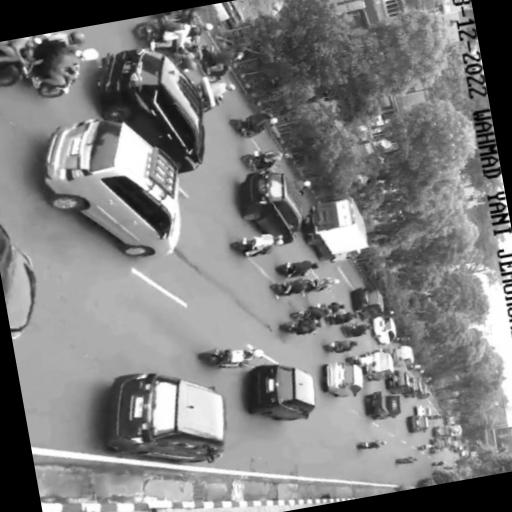car: (44, 120, 179, 257), (97, 49, 204, 172), (107, 373, 225, 464), (240, 171, 302, 244), (0, 226, 35, 339), (248, 365, 315, 421), (323, 363, 363, 397), (350, 288, 383, 320), (361, 350, 393, 382), (365, 392, 400, 420), (370, 316, 396, 345), (386, 370, 410, 394), (391, 345, 413, 368), (403, 378, 423, 398), (407, 415, 428, 433), (428, 439, 443, 454), (417, 383, 430, 399), (432, 426, 449, 438), (414, 406, 431, 416), (444, 416, 454, 425), (459, 451, 467, 457)
motorcycle: (44, 120, 179, 257), (97, 49, 204, 172), (107, 373, 225, 464), (240, 171, 302, 244), (0, 226, 35, 339), (248, 365, 315, 421), (37, 64, 79, 98), (323, 363, 363, 397), (0, 48, 33, 87), (195, 46, 230, 81), (350, 288, 383, 320), (361, 350, 393, 382), (131, 19, 165, 48), (365, 392, 400, 420), (195, 77, 221, 112), (198, 349, 244, 367), (370, 316, 396, 345), (153, 8, 194, 24), (229, 118, 259, 138), (386, 370, 410, 394), (240, 151, 265, 172), (391, 345, 413, 368), (230, 238, 255, 257), (403, 378, 423, 398), (407, 415, 428, 433), (276, 262, 296, 278), (278, 321, 302, 333), (270, 283, 291, 296), (428, 439, 443, 454), (289, 309, 309, 320), (304, 279, 318, 294), (417, 383, 430, 399), (432, 426, 449, 438), (345, 356, 365, 366), (325, 315, 343, 325), (340, 325, 355, 337), (414, 406, 431, 416), (322, 342, 338, 352), (357, 442, 370, 449), (444, 416, 454, 425), (415, 444, 426, 452), (395, 458, 407, 464), (459, 451, 467, 457), (431, 462, 439, 466)
